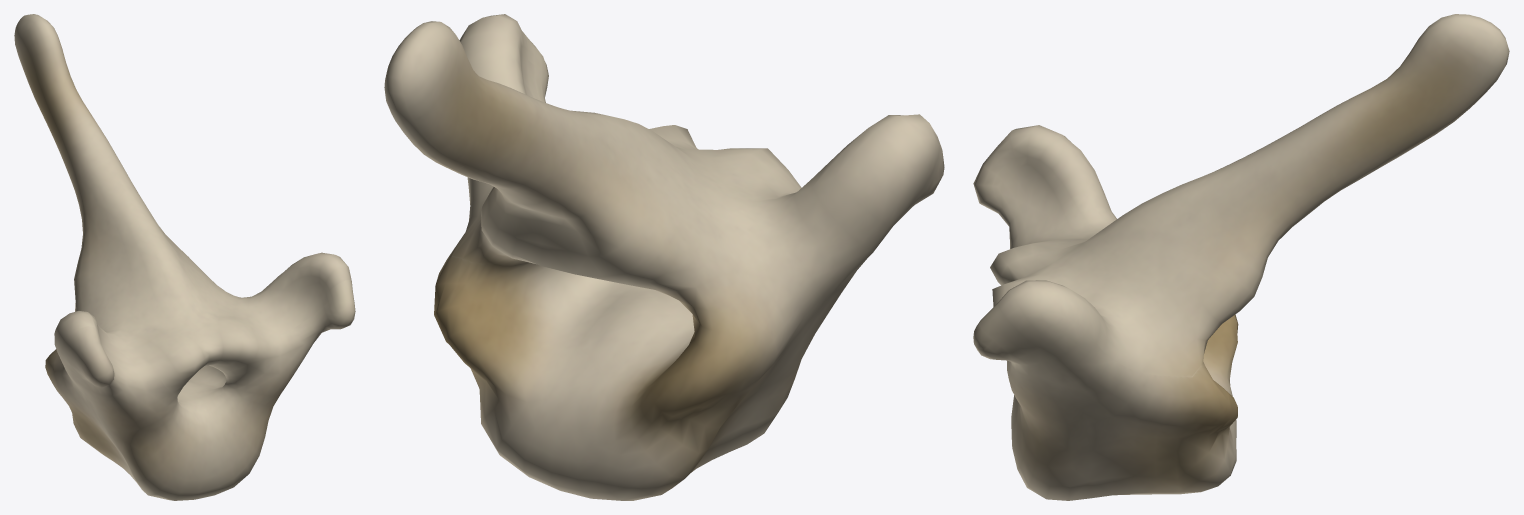
Rendered from vertebrae thoracicae 09.fbx.
3 renders of one model, left to right at view 1: azimuth 30°, elevation 25°; view 2: azimuth 150°, elevation 25°; view 3: azimuth 270°, elevation 25°, orthographic. The views are drawn at different scales.
Visible parts, largest first — view 1: vertebrae thoracicae 09; view 2: vertebrae thoracicae 09; view 3: vertebrae thoracicae 09.
Boxes of the visible parts, left/top/right/bottom form: vertebrae thoracicae 09: left=14, top=14, right=355, bottom=500; vertebrae thoracicae 09: left=384, top=14, right=944, bottom=500; vertebrae thoracicae 09: left=973, top=14, right=1509, bottom=500.
Bounding box in the file's own units: 8.18 × 9.96 × 10.42.
